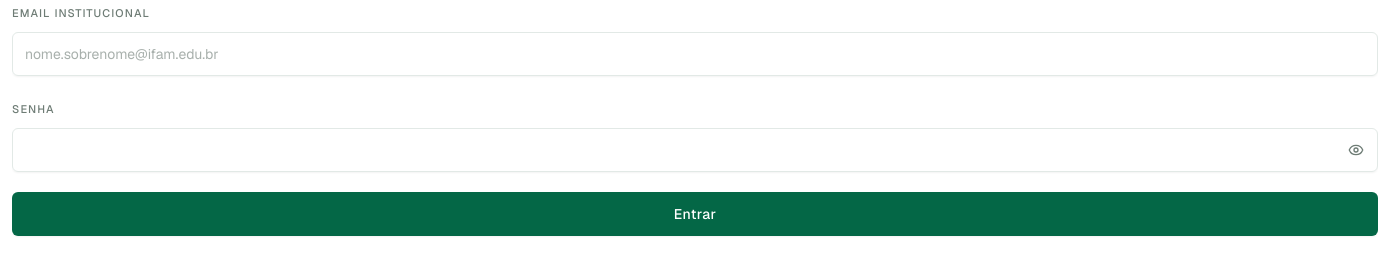
Test: <LoginForm /> › bloqueia submit quando email é inválido (validação local)
The width and height of the screenshot is (1390, 280).
Type "xxx" into the field labelled "Email institucional" at (695, 54), box [12,32,1378,76]
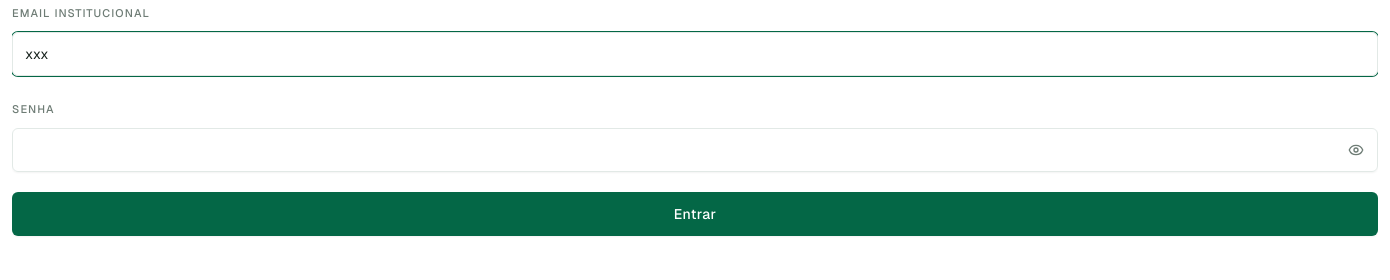
Type "qualquersenha" into the password field labelled "Senha" at (695, 150), box [12,128,1378,172]
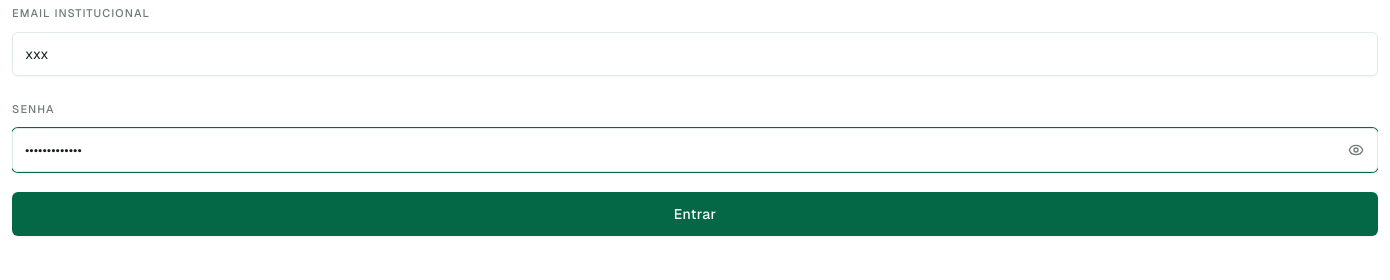
Click the button "Entrar" at (695, 214), box [12,192,1378,236]
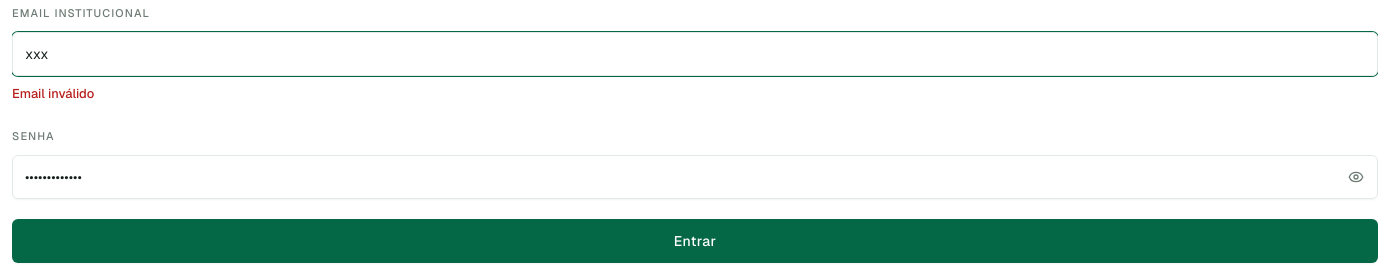
Check: the text "Email inválido" is shown, box [12,85,94,102]
